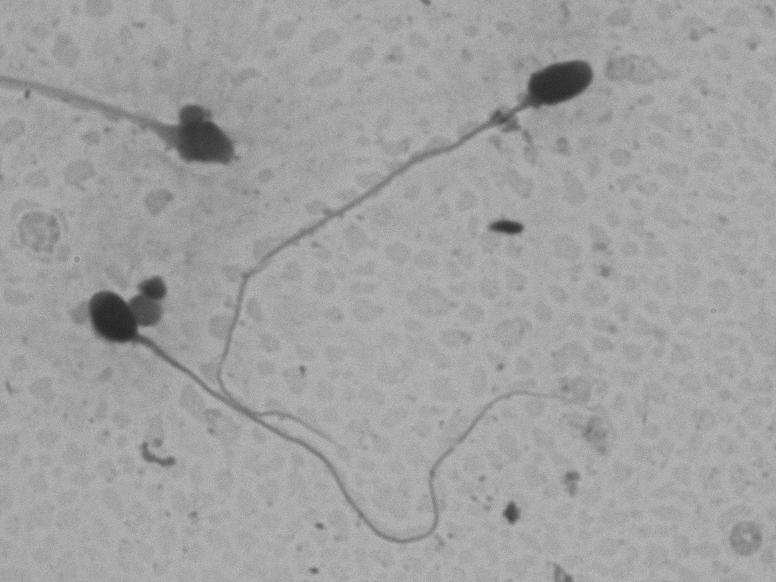Abnormal: (205, 41, 630, 457), (12, 45, 241, 189)
Normal: (80, 279, 629, 550)
